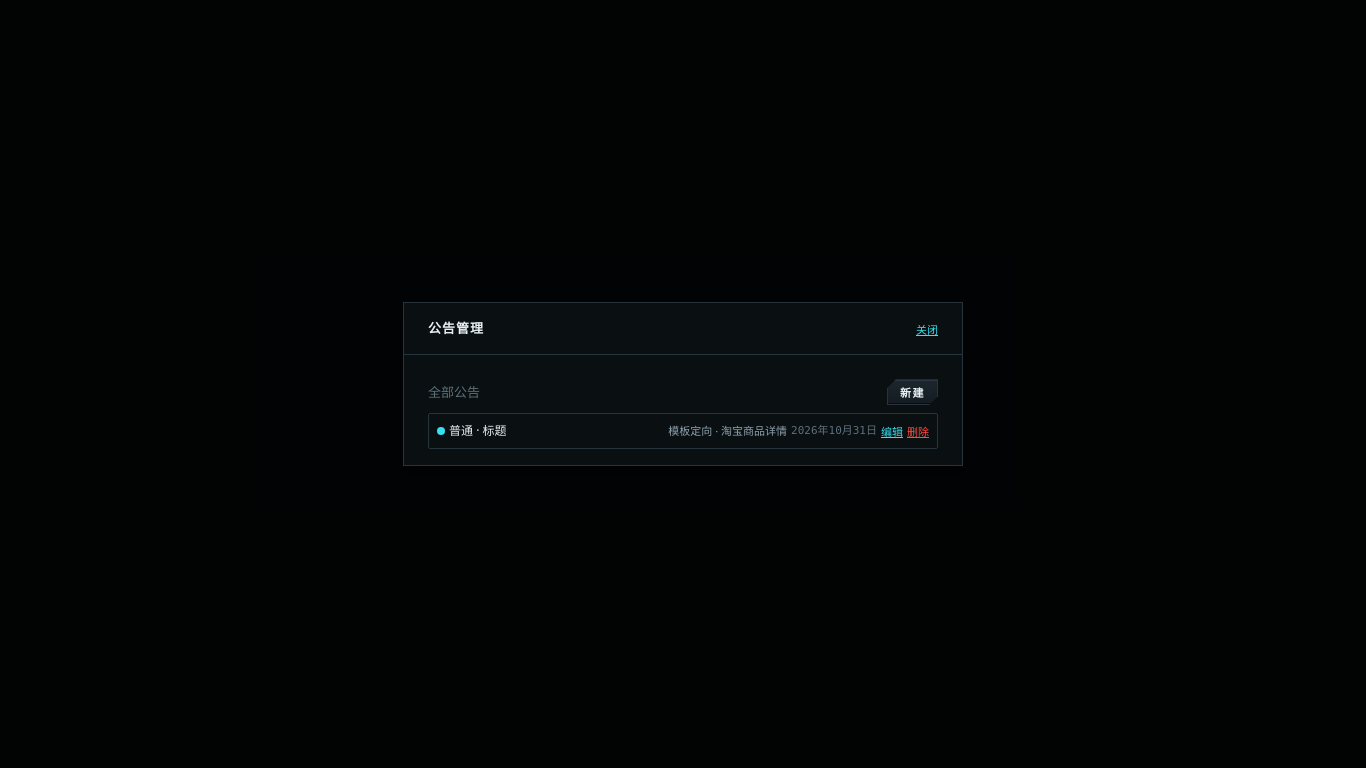
Test case: AnnouncementManager target form (P3) › round-trips a template target through the edit form
The width and height of the screenshot is (1366, 768).
Click the button "编辑" at [892, 431], box x1=881 y1=423 x2=903 y2=439
(page scrolled)
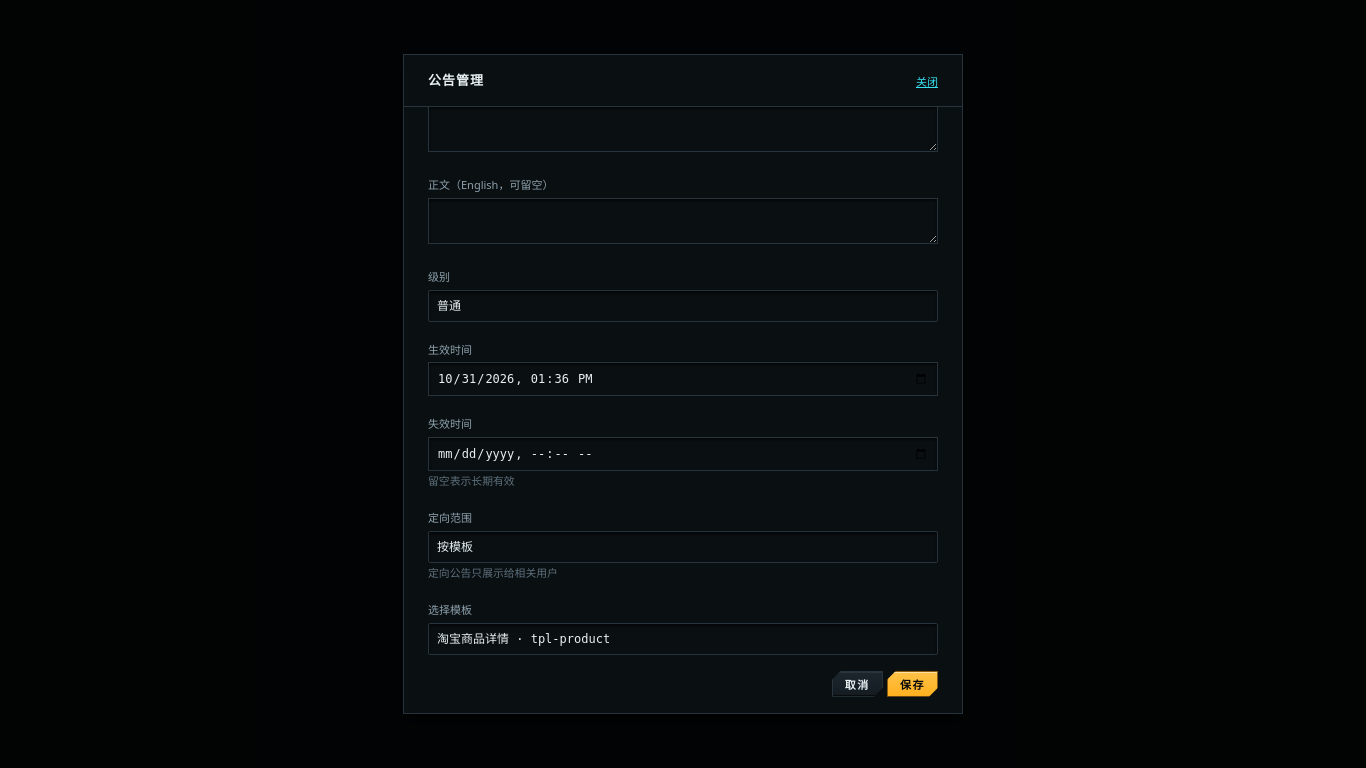
Check: the dropdown labelled "定向范围 定向公告只展示给相关用户" shows "按模板", box x1=428 y1=531 x2=938 y2=563
Check: the dropdown labelled "选择模板" shows "淘宝商品详情 · tpl-product", box x1=428 y1=623 x2=938 y2=655
